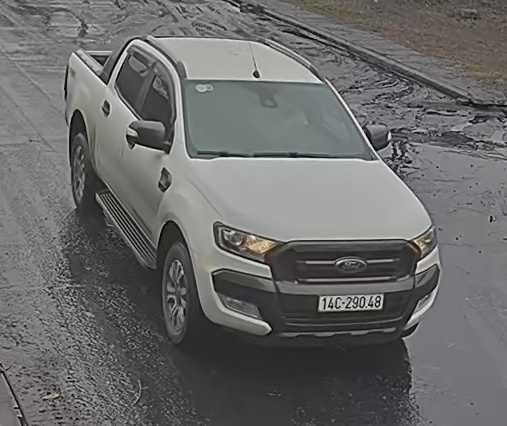vehicle plate: (315, 288, 383, 320)
